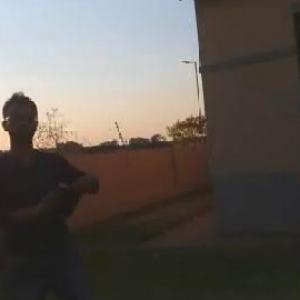follow: (1, 85, 105, 299)
